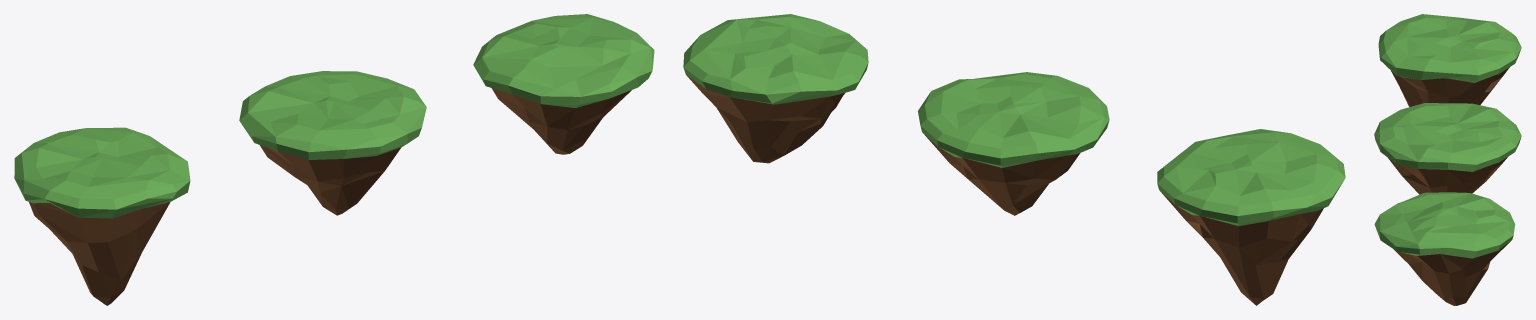
File: FloatingDirtIsland.fbx
3 renders of one model, left to right at view 1: azimuth 30°, elevation 25°; view 2: azimuth 150°, elevation 25°; view 3: azimuth 270°, elevation 25°, orthographic. The views are drawn at different scales.
Parts seen in each view (by area): view 1: Island_0, Island_1, Island_2; view 2: Island_0, Island_2, Island_1; view 3: Island_2, Island_1, Island_0.
Boxes of the visible parts, box(x1,y1,x2,y2) form: Island_0: box(14, 127, 190, 305); Island_1: box(239, 71, 426, 215); Island_2: box(473, 14, 654, 154); Island_0: box(1157, 129, 1345, 305); Island_2: box(683, 14, 868, 163); Island_1: box(918, 72, 1109, 215); Island_2: box(1374, 192, 1515, 305); Island_1: box(1374, 103, 1521, 194); Island_0: box(1378, 14, 1521, 106).
Size of the model in its own units: 1332 by 302 by 353.
